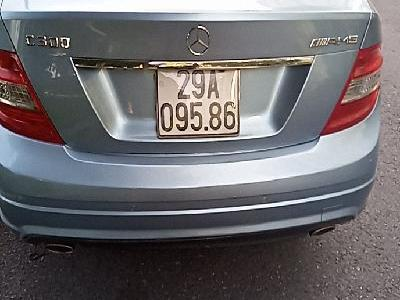car: (155, 68, 240, 137)
